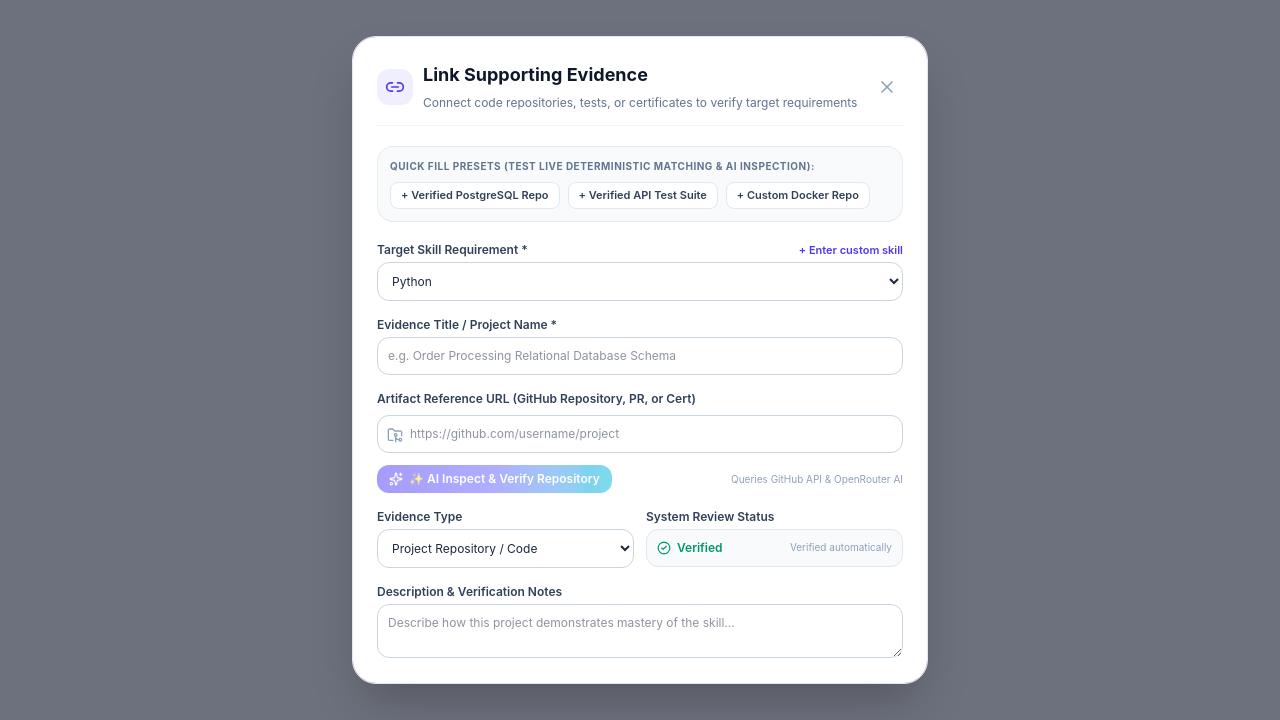
LinkEvidenceModal Custom Skill Support › populates custom input when clicking suggestion chip
Note: Switch to custom mode
What coordinates should you click on to do the following:
click the button "+ Enter custom skill"
I would click on:
 (851, 250)
Its box is [799,242,903,258].
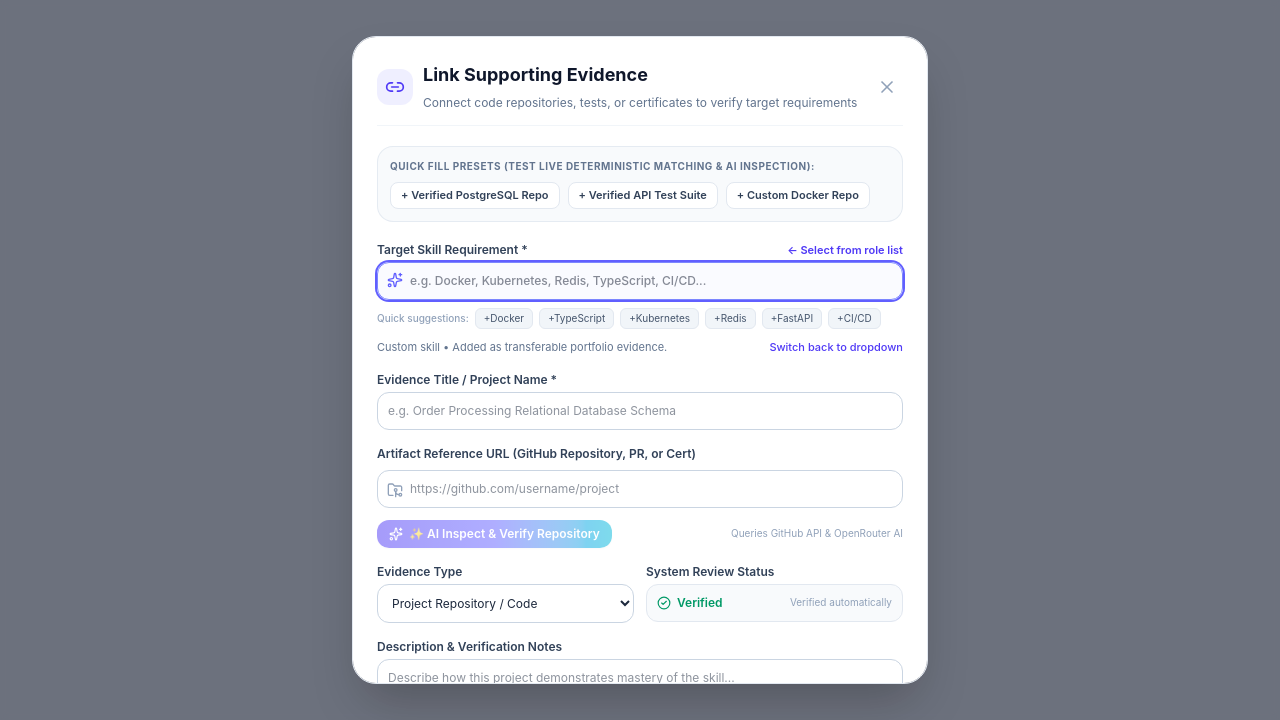
Note: Click "+Docker" chip
What coordinates should you click on to do the following:
click the button "+Docker"
I would click on:
 (504, 318)
Its box is [475,308,533,329].
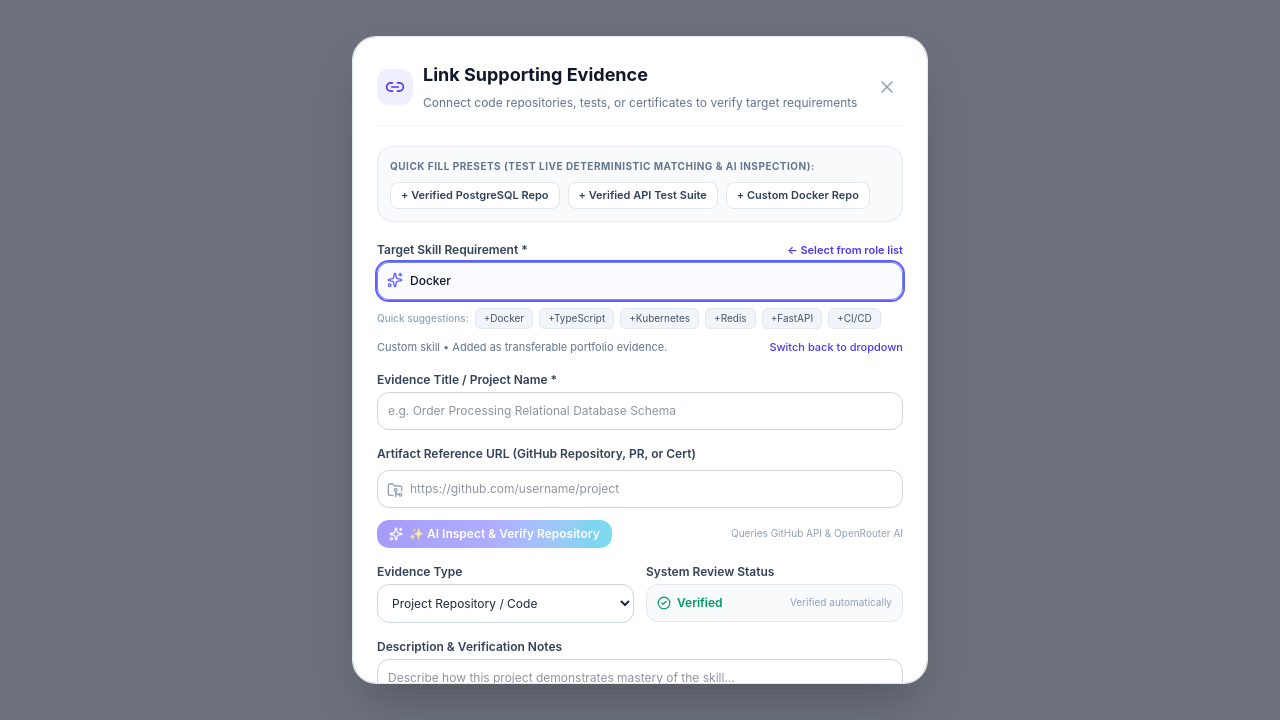
Check: the field with placeholder "e.g. Docker, Kubernetes, Redis, TypeScript, CI/CD..." holds "Docker", box [377,262,903,300]
